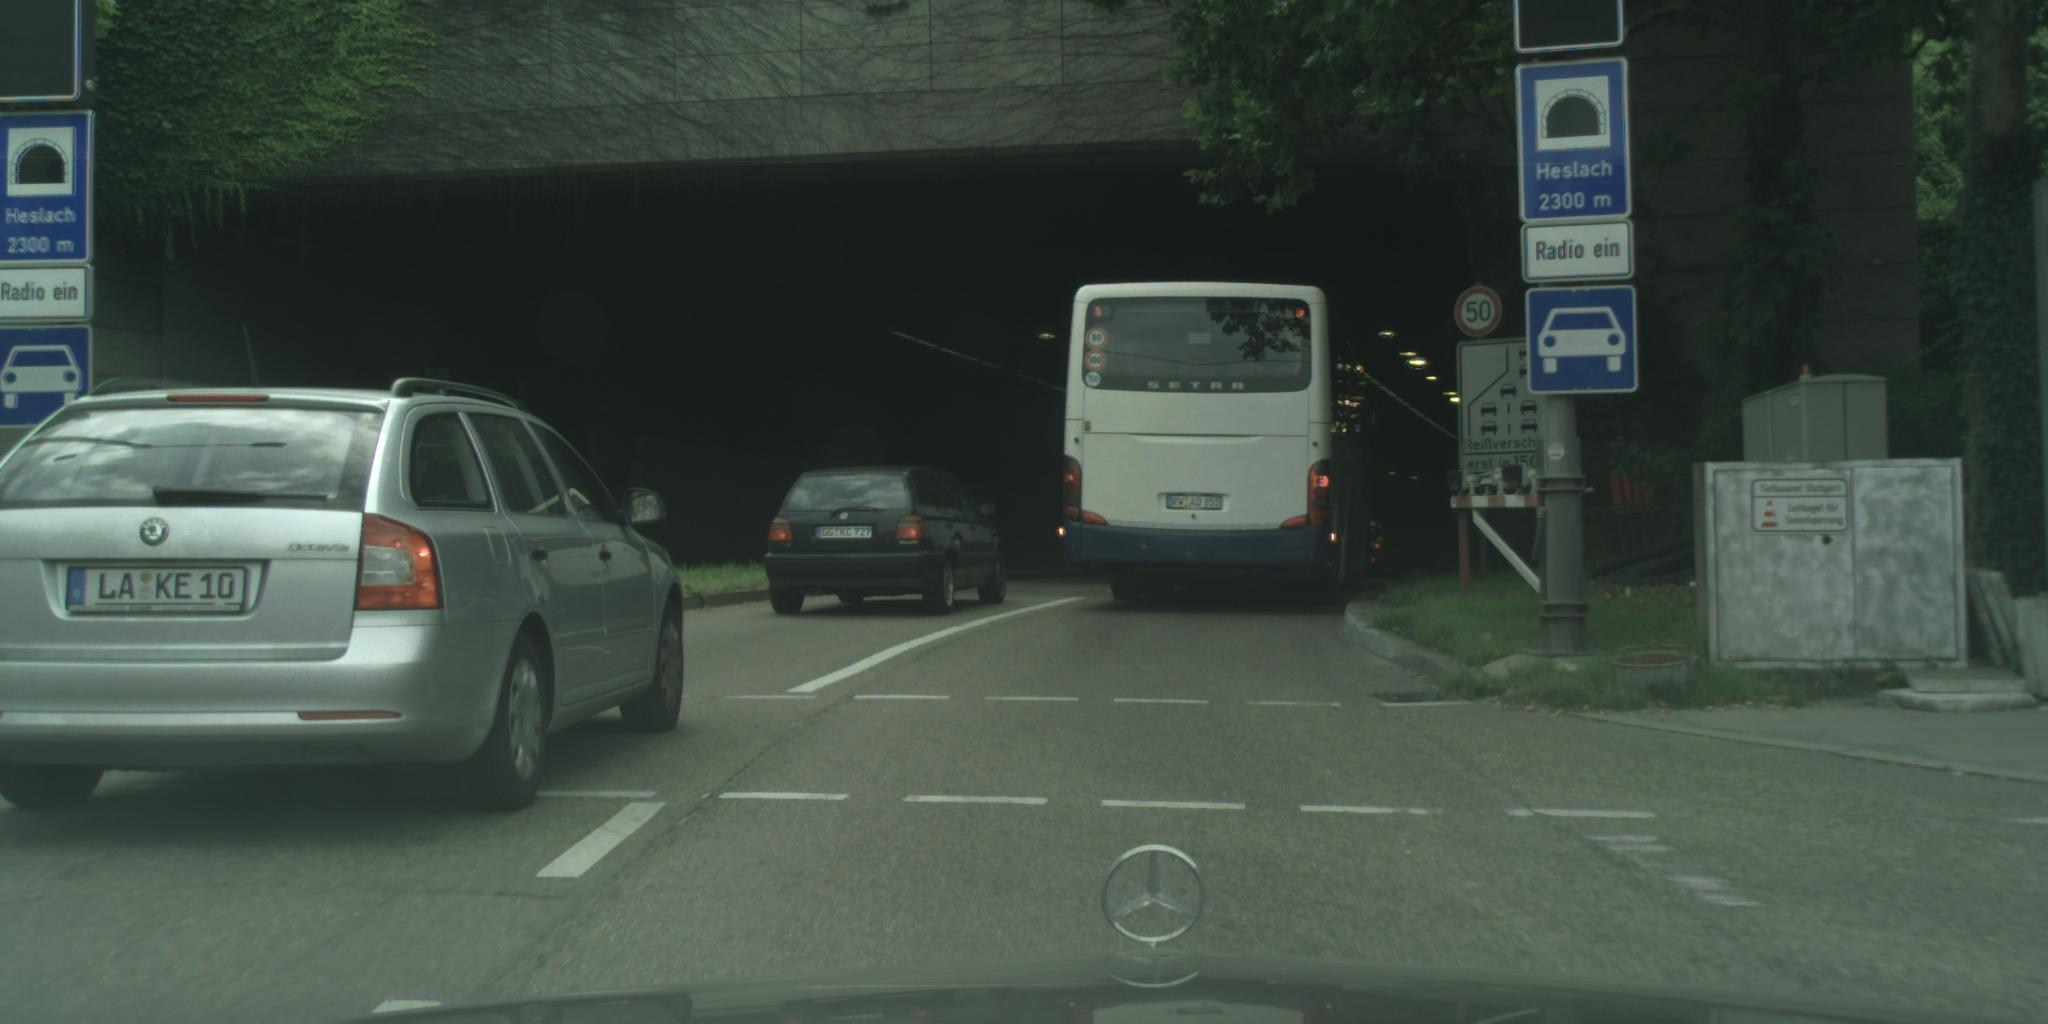bus: (1064, 283, 1373, 613)
car: (1, 376, 686, 818), (765, 468, 1006, 619), (1356, 519, 1388, 577)
